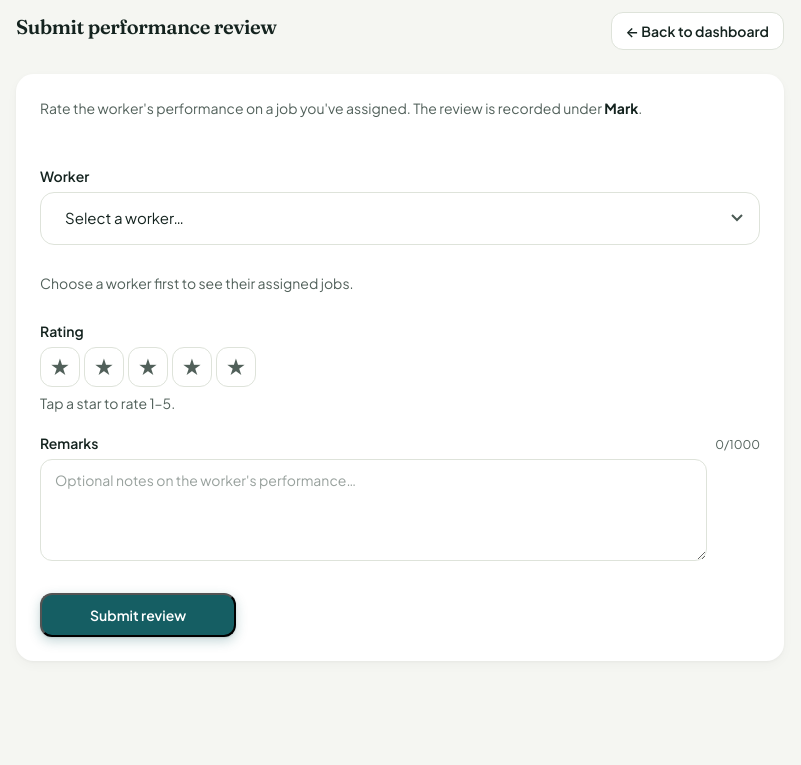
Test case: SubmitReview › validates required fields before submitting
What coordinates should you click on to do the following:
click the button "Submit review"
I would click on:
 (138, 614)
Its box is [40, 592, 236, 636].
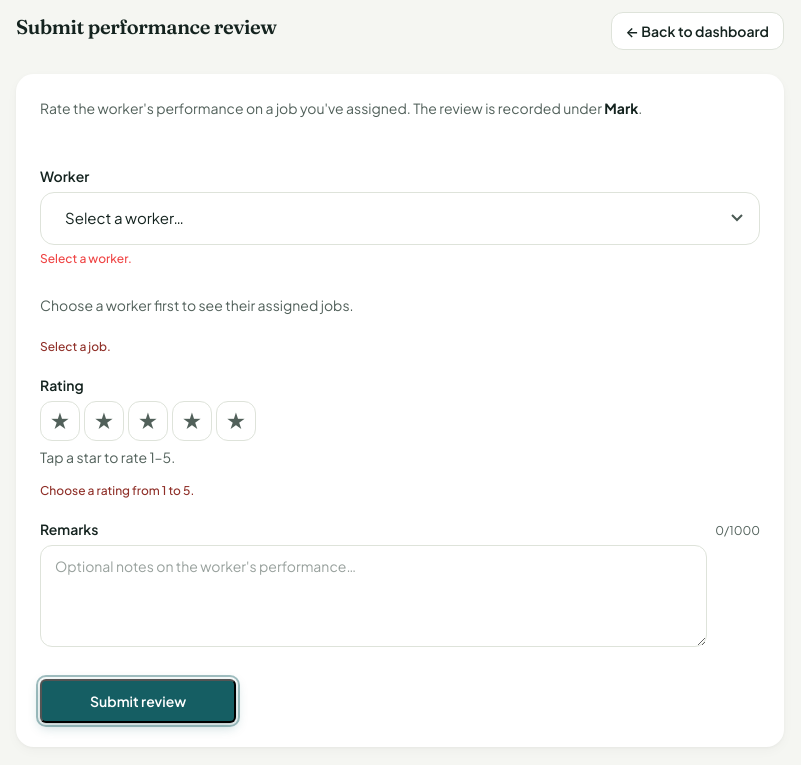
Result: the text "Select a worker." is shown at [40, 250, 132, 266]
Result: the text "Select a job." is shown at [40, 338, 111, 354]
Result: the text "Choose a rating from 1 to 5." is shown at [40, 482, 194, 498]
